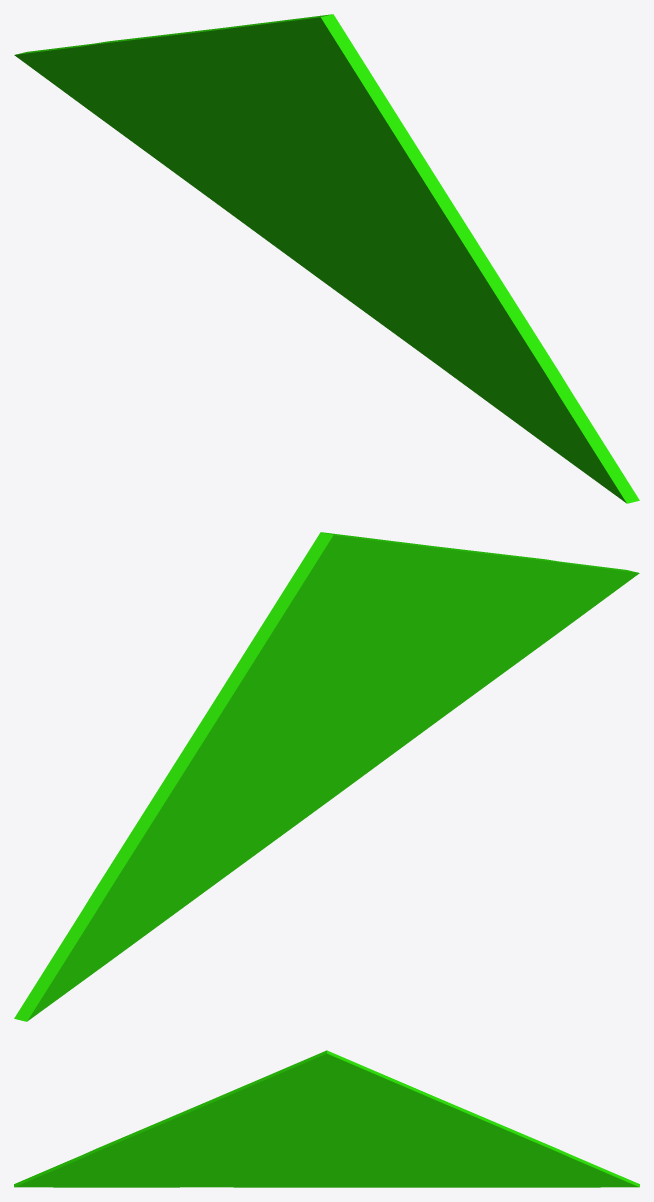
File: Warehouse_03_Wall_S_02.fbx
The picture shows the model from 3 angles, top to bottom: view 1: azimuth 30°, elevation 25°; view 2: azimuth 150°, elevation 25°; view 3: azimuth 270°, elevation 25°; orthographic projection. The views are drawn at different scales.
Visible parts, largest first — view 1: Warehouse_03_Wall_S_02; view 2: Warehouse_03_Wall_S_02; view 3: Warehouse_03_Wall_S_02.
Boxes of the visible parts, <box> form: Warehouse_03_Wall_S_02: <box>14,14,639,503</box>; Warehouse_03_Wall_S_02: <box>14,532,639,1021</box>; Warehouse_03_Wall_S_02: <box>14,1050,639,1187</box>.
Size of the model in its own units: 19.77 by 386 by 1632.
